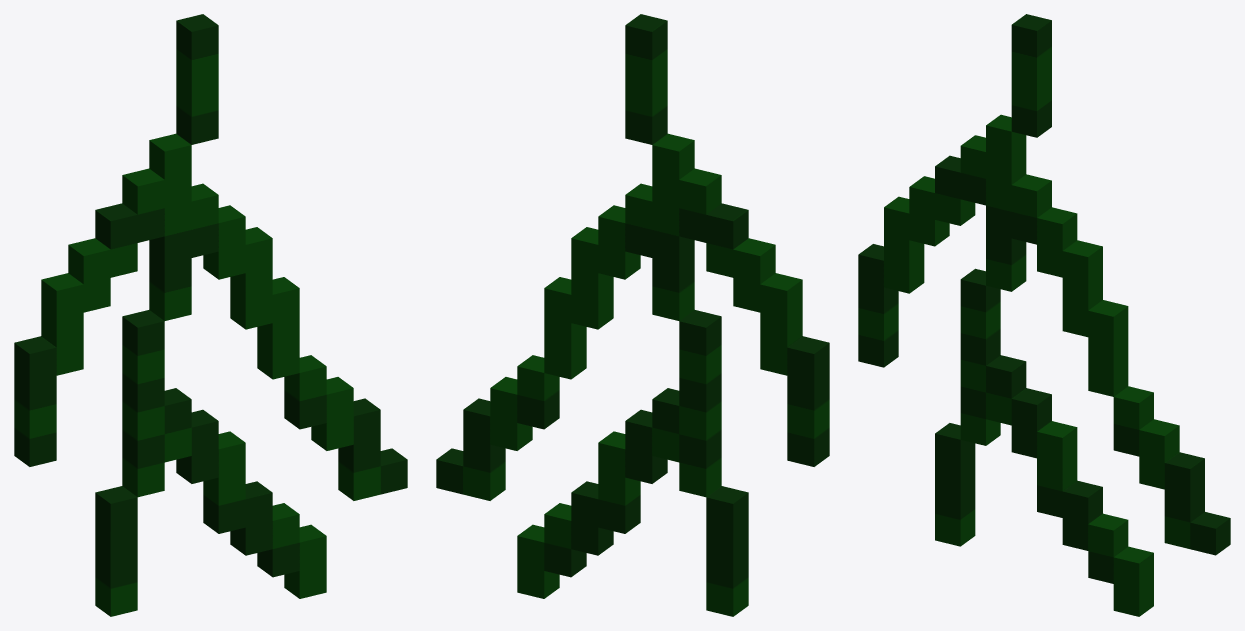
The model's file is Pods_2.glb.
The picture shows the model from 3 angles, left to right: view 1: azimuth 30°, elevation 25°; view 2: azimuth 150°, elevation 25°; view 3: azimuth 330°, elevation 25°; orthographic projection. The views are drawn at different scales.
Parts seen in each view (by area): view 1: Pods_2; view 2: Pods_2; view 3: Pods_2.
Part boxes in pixels (box(x1,y1,x2,y2)): Pods_2: box(14, 14, 407, 616); Pods_2: box(436, 14, 829, 616); Pods_2: box(858, 14, 1230, 616).
Size of the model in its own units: 1.4 by 2.1 by 0.1.
Materials: 1 (1 with a texture image).
